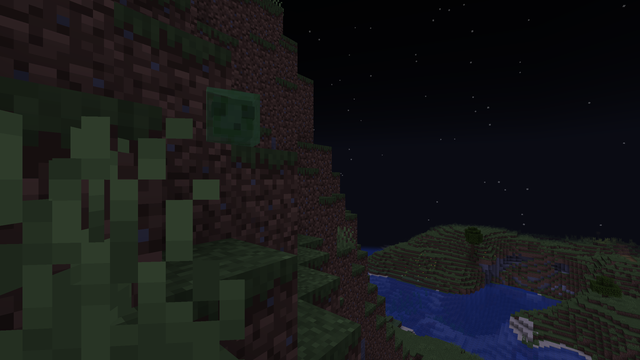slimes: (207, 83, 265, 148)
